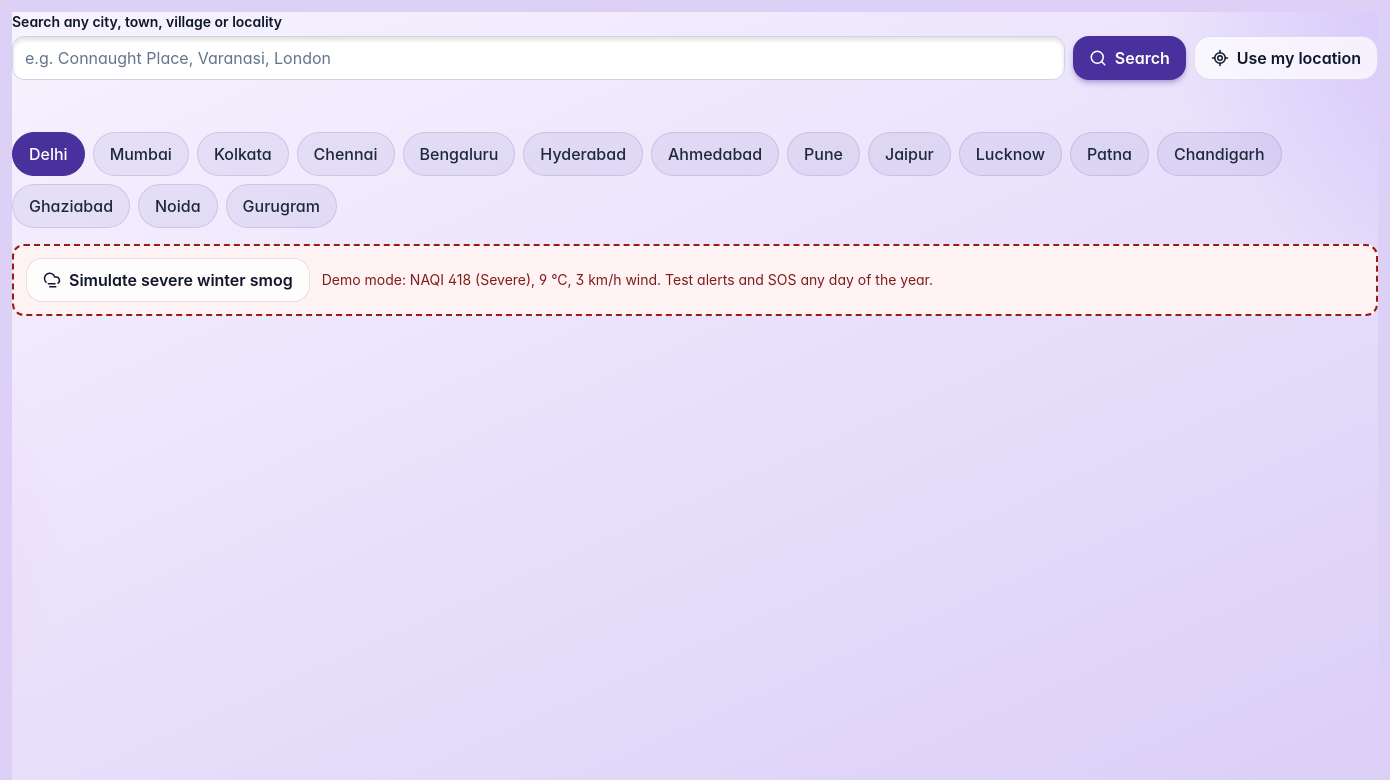
Test: LocationBar › suggests places while typing and picks one with the keyboard
The width and height of the screenshot is (1390, 780).
Type "Conn" into the dropdown labelled "Search any city, town, village or locality". click: (538, 58)
box: [12, 36, 1065, 80]
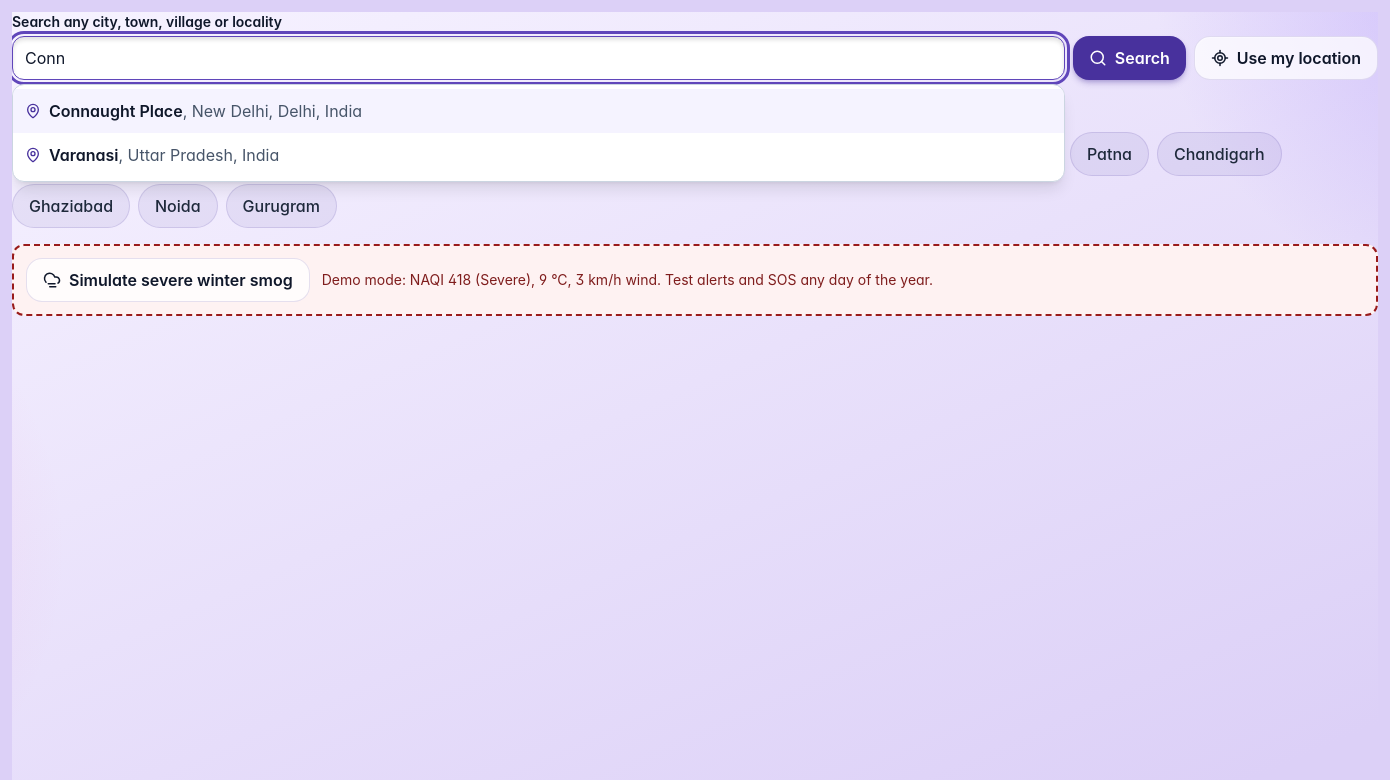
Expected: the number of options is 2, [13, 89, 1064, 133]; [25, 145, 279, 165]
Expected: the dropdown labelled "Search any city, town, village or locality" is expanded, [12, 36, 1065, 80]
Press Arrowdown Enter
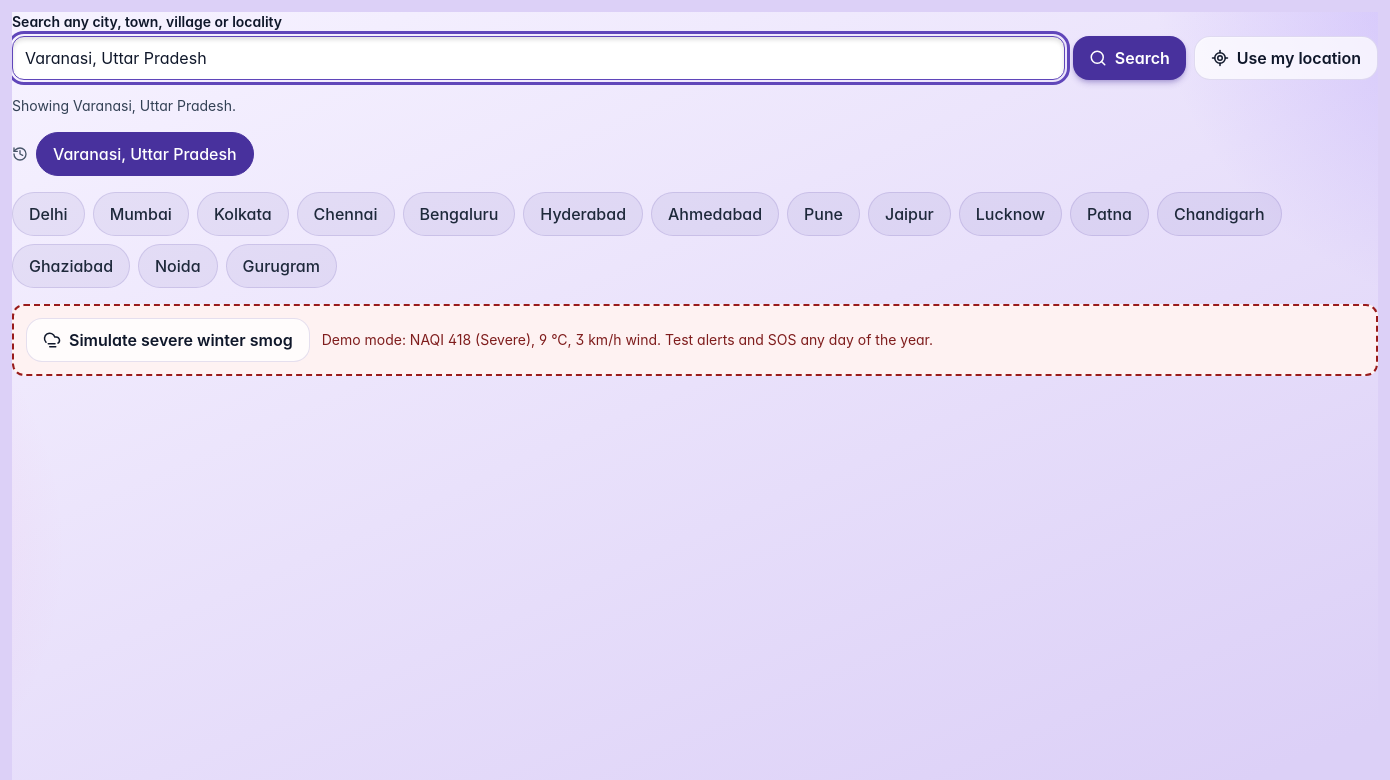
Expected: the message reads "Showing Varanasi, Uttar Pradesh.", [12, 97, 236, 114]
Expected: the element named "Recent places" reads "Varanasi, Uttar Pradesh", [36, 132, 254, 176]
